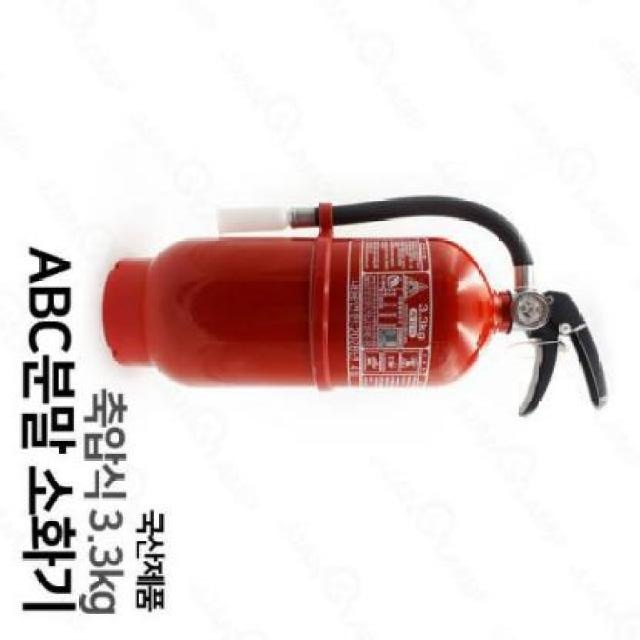fire extinguisher: (103, 195, 609, 416)
